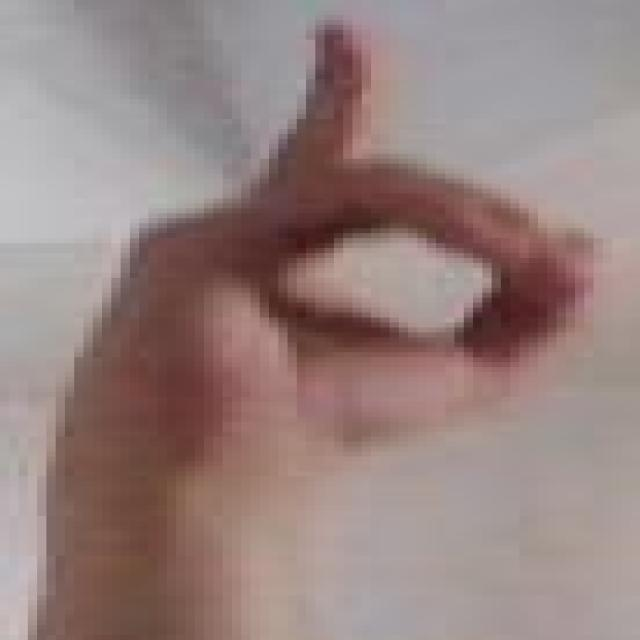D1: (13, 6, 640, 540)
